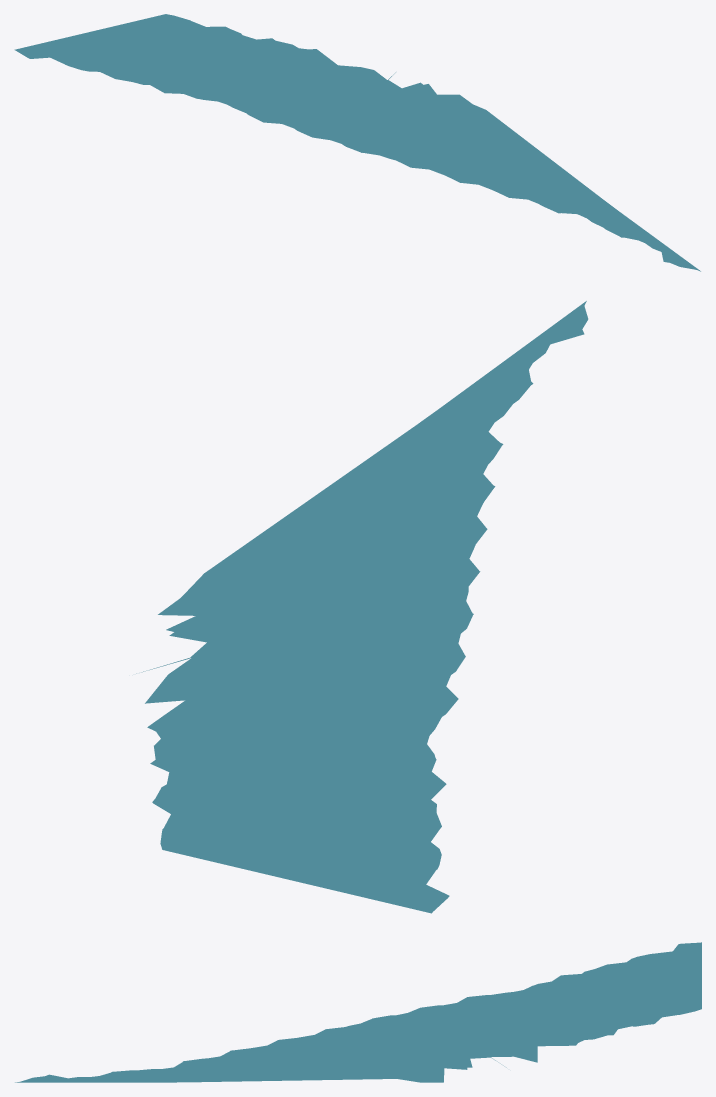
The picture shows the model from 3 angles, top to bottom: view 1: azimuth 30°, elevation 25°; view 2: azimuth 150°, elevation 25°; view 3: azimuth 270°, elevation 25°; orthographic projection. The views are drawn at different scales.
Visible parts, largest first — view 1: prototype; view 2: prototype; view 3: prototype.
Boxes of the visible parts, bbox=[...] form: prototype: bbox=[14, 14, 700, 271]; prototype: bbox=[136, 301, 588, 913]; prototype: bbox=[15, 942, 701, 1082].
Bounding box in the file's own units: 26.21 × 0.9626 × 58.62.
